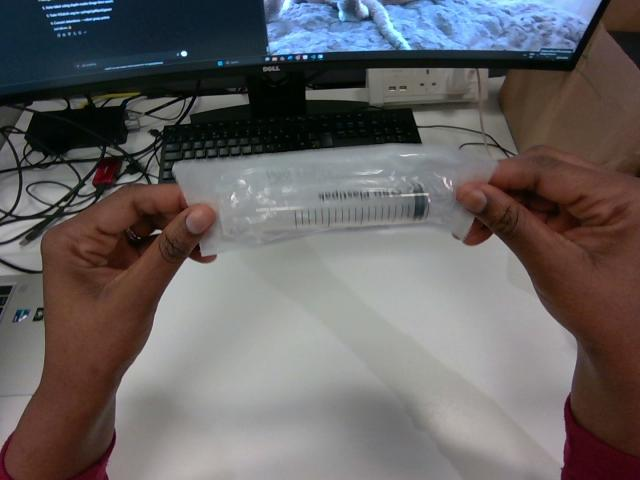syringe: (173, 144, 496, 254)
